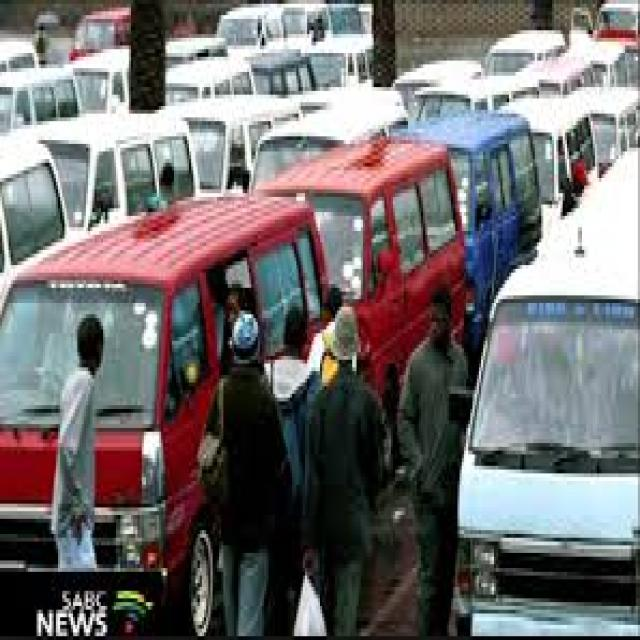MiniBus taxi: (451, 262, 640, 636)
